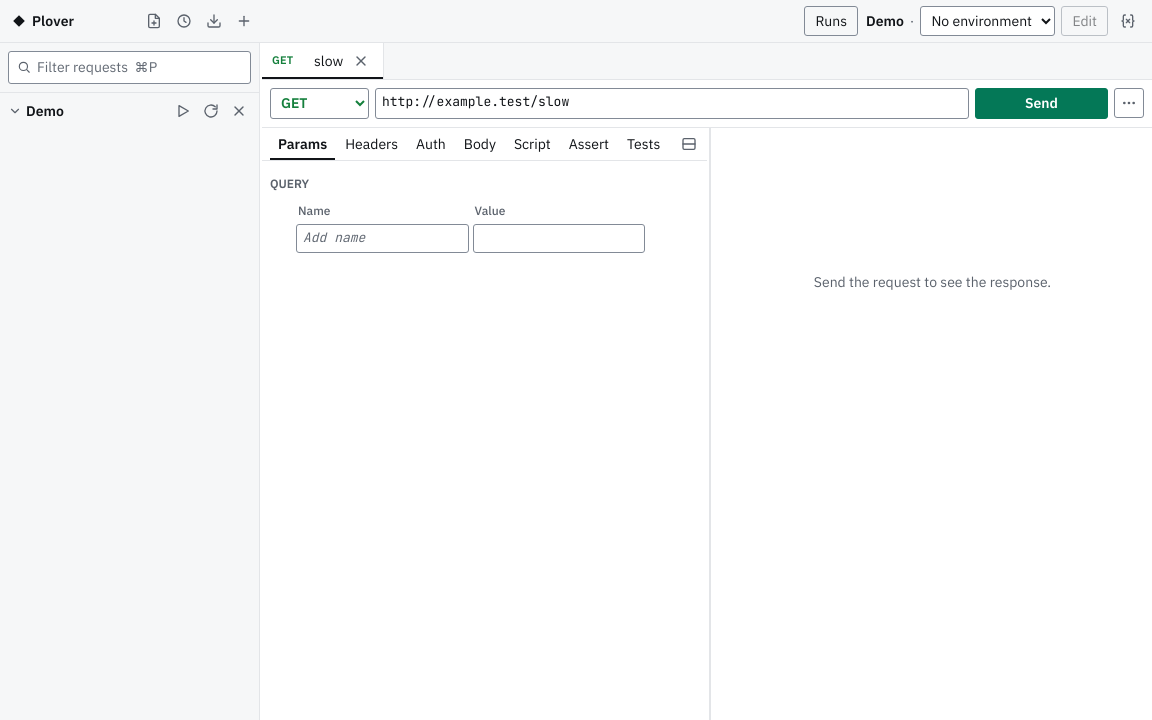
cancel a send › click_cancel_shows_banner
Click the button "Send": [1042, 103] box [975,88,1108,119]
Wait 1500 ms
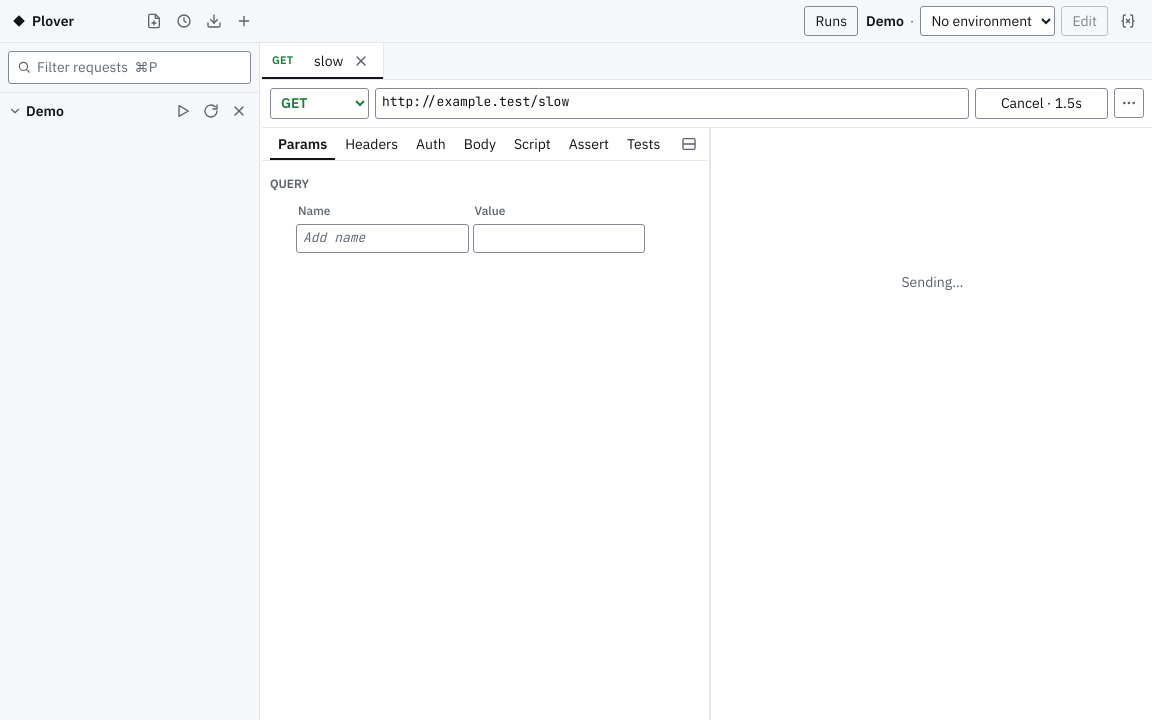
Click the button with aria-label "Cancel request": [1042, 103] box [975,88,1108,119]
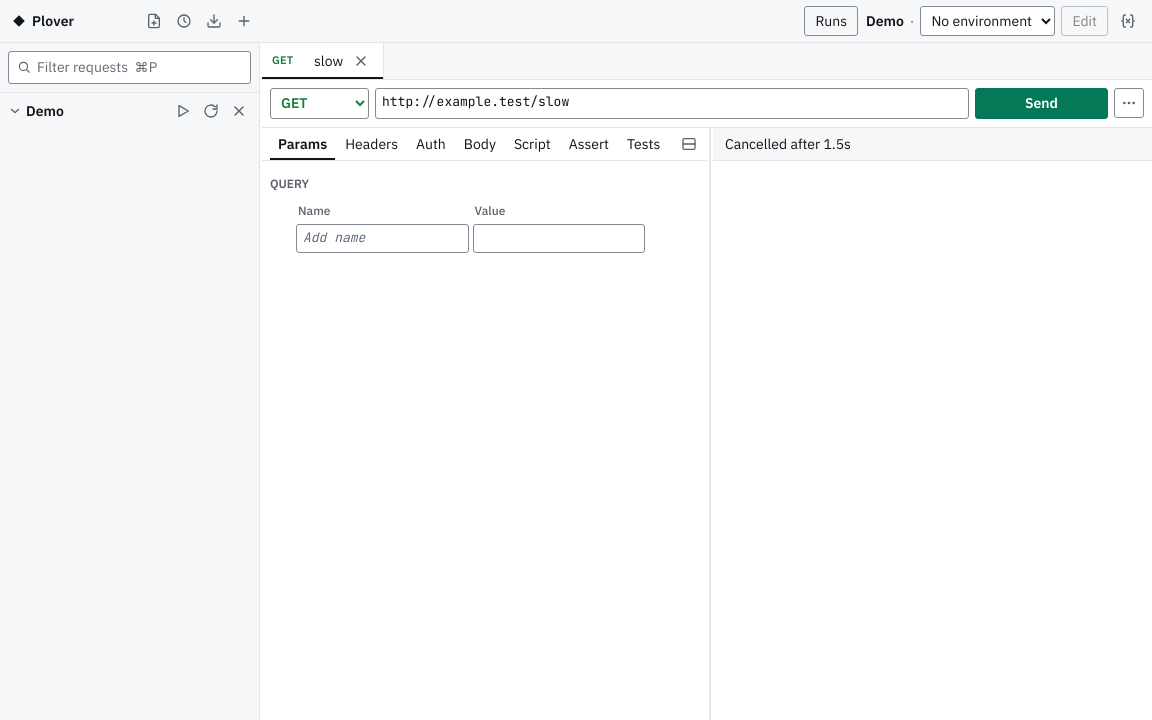
Check: the text "Cancelled after 1.5s" is shown, box [725,135,851,153]
